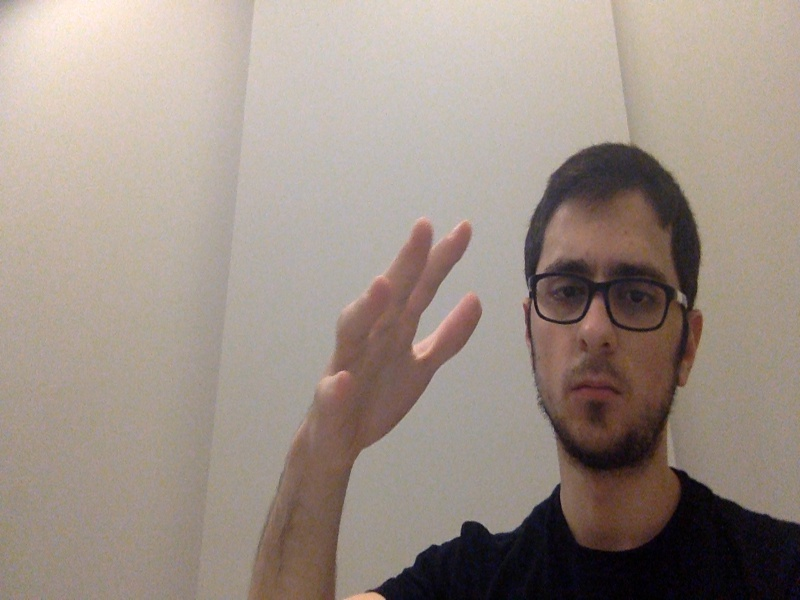5-hand: (302, 218, 488, 453)
